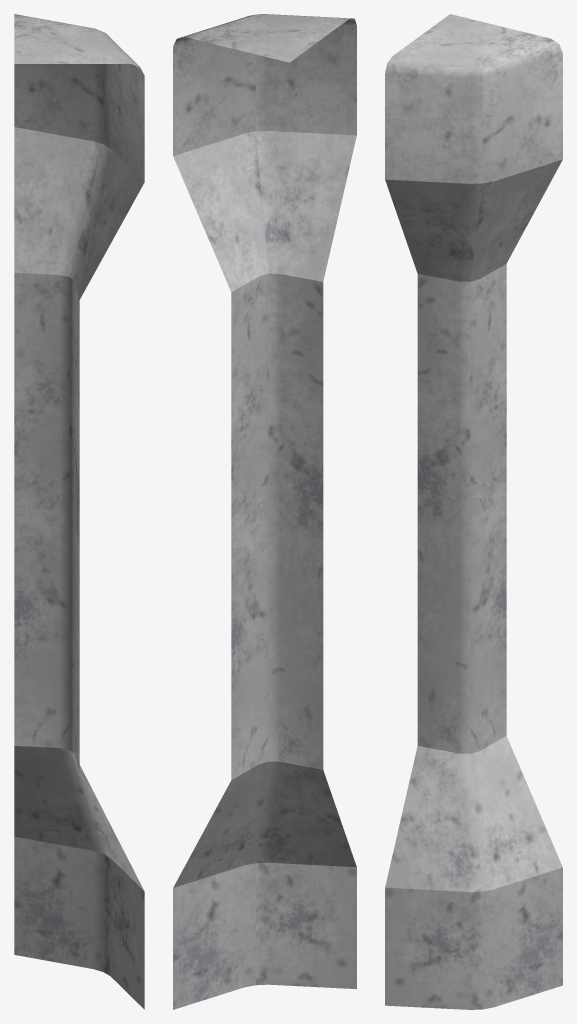
The model's file is BottomWallAngle.fbx.
3 views of the same model, side by side, from view 1: azimuth 90°, elevation 25°; view 2: azimuth 150°, elevation 25°; view 3: azimuth 330°, elevation 25° (orthographic). The views are drawn at different scales.
Visible parts, largest first — view 1: BottomWallAngle; view 2: BottomWallAngle; view 3: BottomWallAngle.
Boxes of the visible parts, x1,y1,x2,y2 form: BottomWallAngle: (14, 14, 144, 1009); BottomWallAngle: (173, 14, 356, 1009); BottomWallAngle: (385, 14, 562, 1009).
Size of the model in its own units: 10 by 80 by 10.
1 material, 1 textured.
